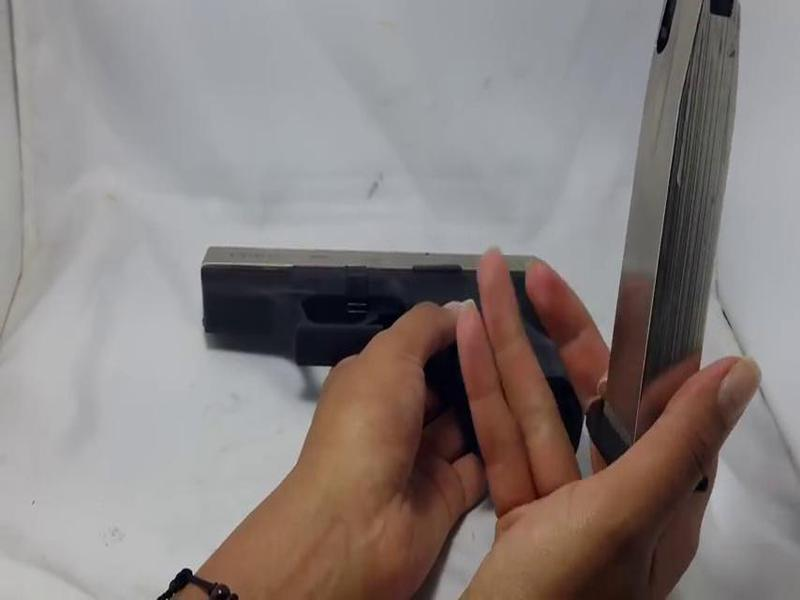Pistola: (189, 219, 587, 465)
